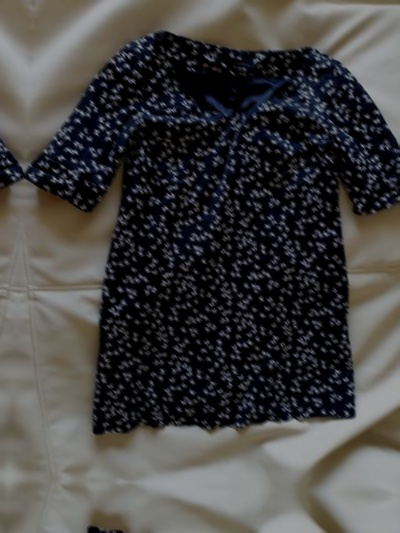Dress: (12, 13, 400, 465), (0, 0, 30, 444), (0, 509, 400, 533), (0, 488, 5, 533)
